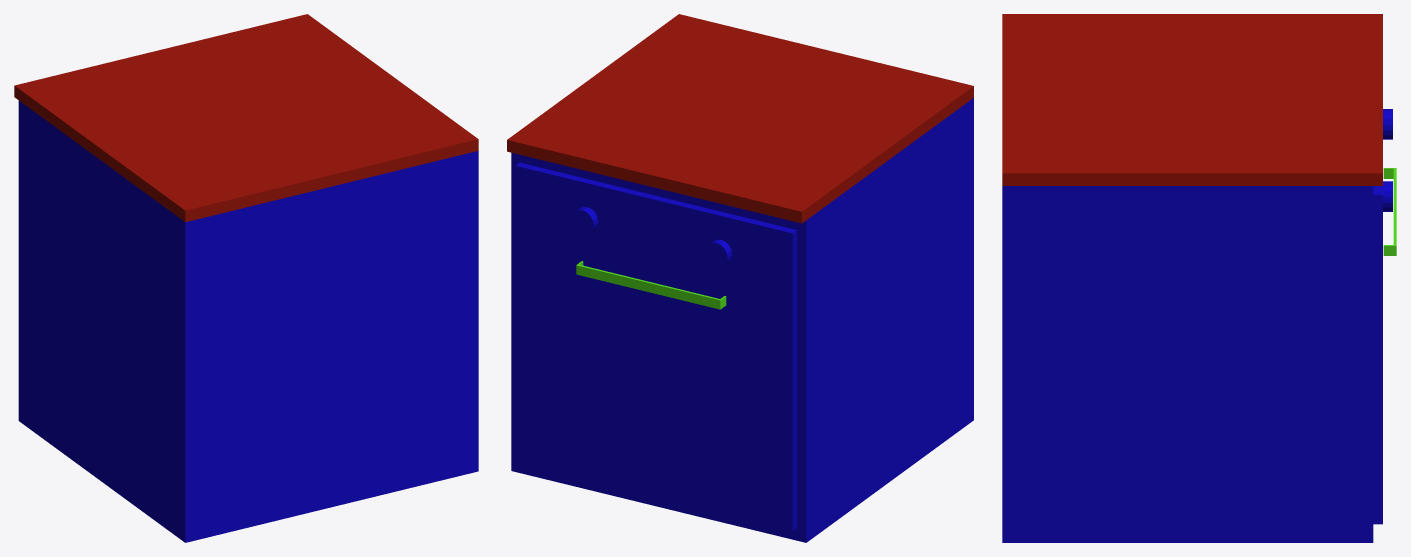
Rendered from P_PlanDeTravail_02_Colored_Unbreakable.fbx.
The picture shows the model from 3 angles, left to right: view 1: azimuth 30°, elevation 25°; view 2: azimuth 150°, elevation 25°; view 3: azimuth 270°, elevation 25°; orthographic projection. The views are drawn at different scales.
Visible parts, largest first — view 1: P_PlanDeTravail_02_Colored_Unbreakable; view 2: P_PlanDeTravail_02_Colored_Unbreakable; view 3: P_PlanDeTravail_02_Colored_Unbreakable.
Boxes of the visible parts, <box> form: P_PlanDeTravail_02_Colored_Unbreakable: <box>14,14,478,542</box>; P_PlanDeTravail_02_Colored_Unbreakable: <box>507,14,973,542</box>; P_PlanDeTravail_02_Colored_Unbreakable: <box>1002,14,1396,542</box>.
Size of the model in its own units: 84.06 by 91.06 by 87.93.
